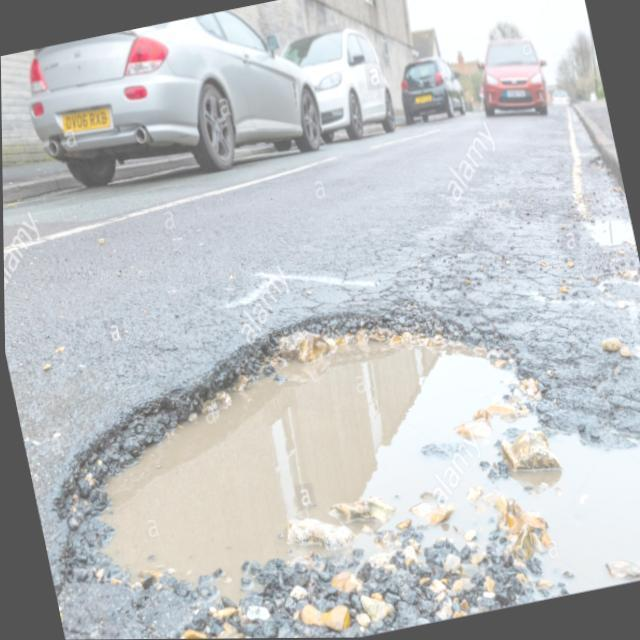Pothole: (40, 295, 640, 640)
